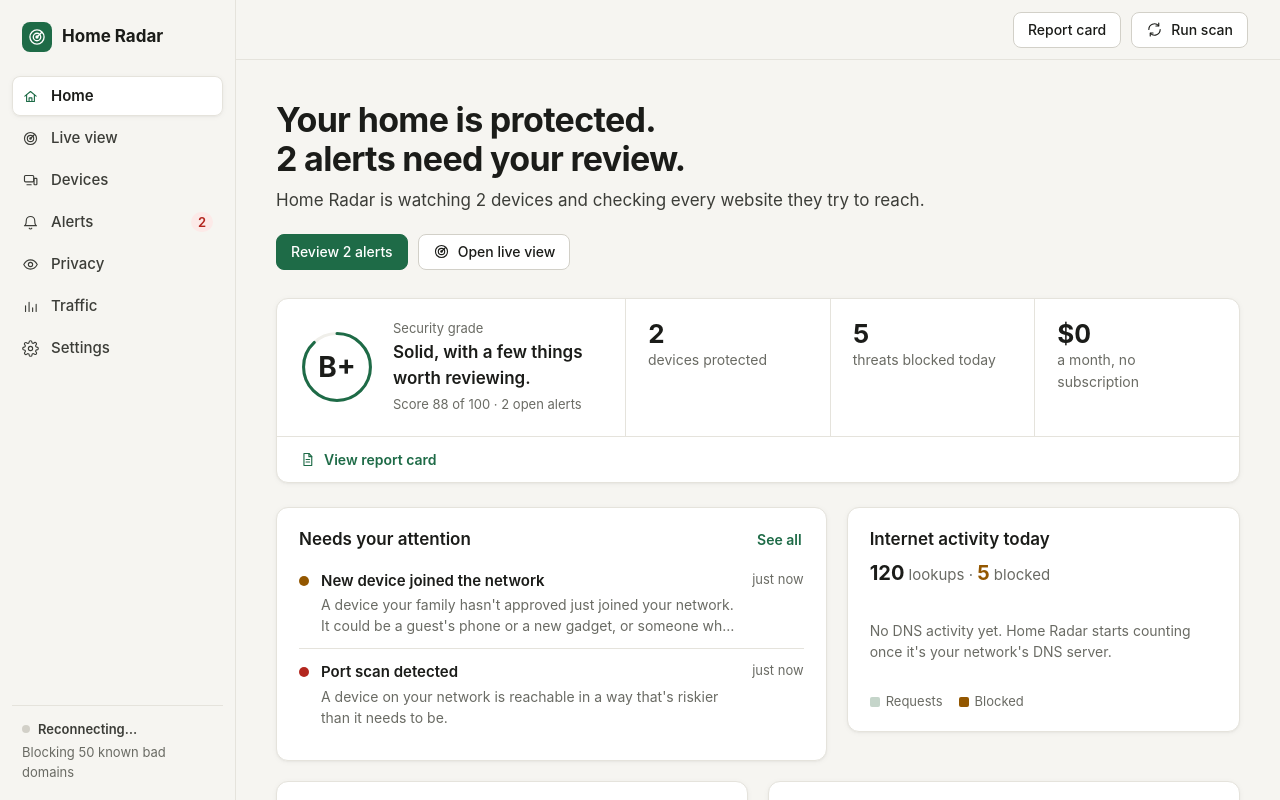
Scenario: Run scan feedback › surfaces a scan failure instead of swallowing it silently
Click the button "Run scan" at (1190, 30), box [1131,12,1248,48]
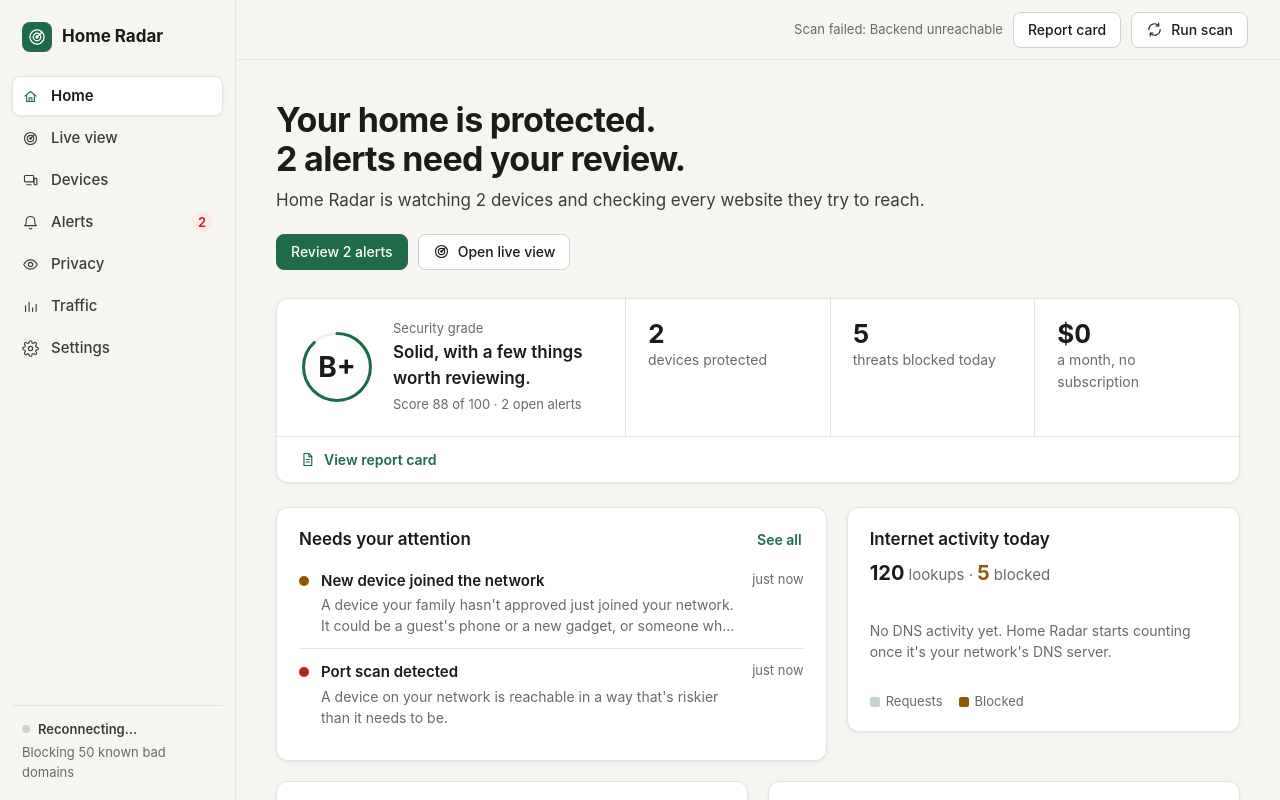
Expected: the text "Scan failed: Backend unreachable" is shown, [794,20,1003,39]
